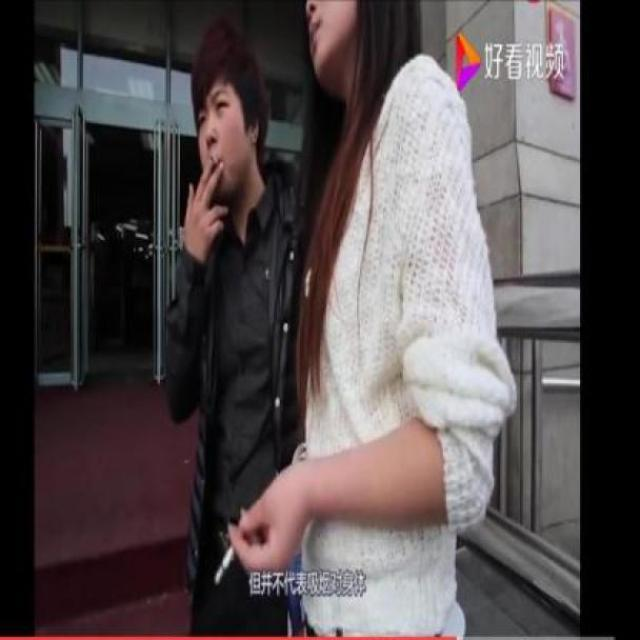rokok: (208, 540, 242, 590)
